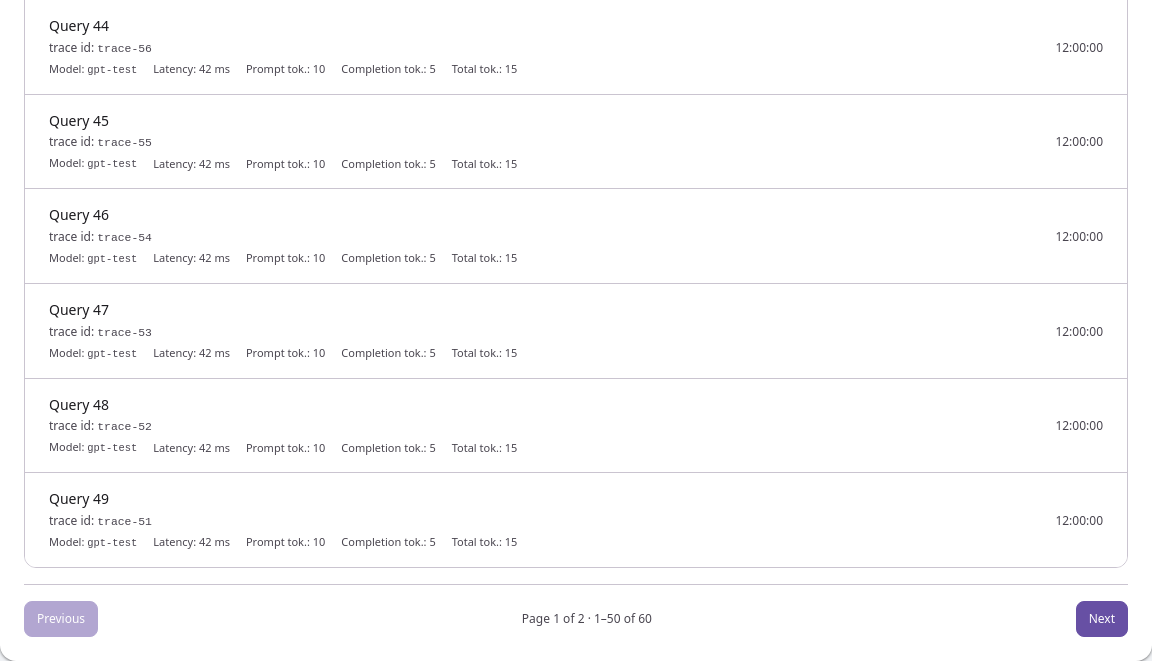
Test: ProxyJournalTab › paginates journal rows with next page fetch
(page scrolled)
Expected: the text "Page 1 of 2 · 1–50 of 60" is shown, [522,610,652,627]
Click the button "Next".
click(1102, 619)  # box [1076,601,1128,637]
(page scrolled)
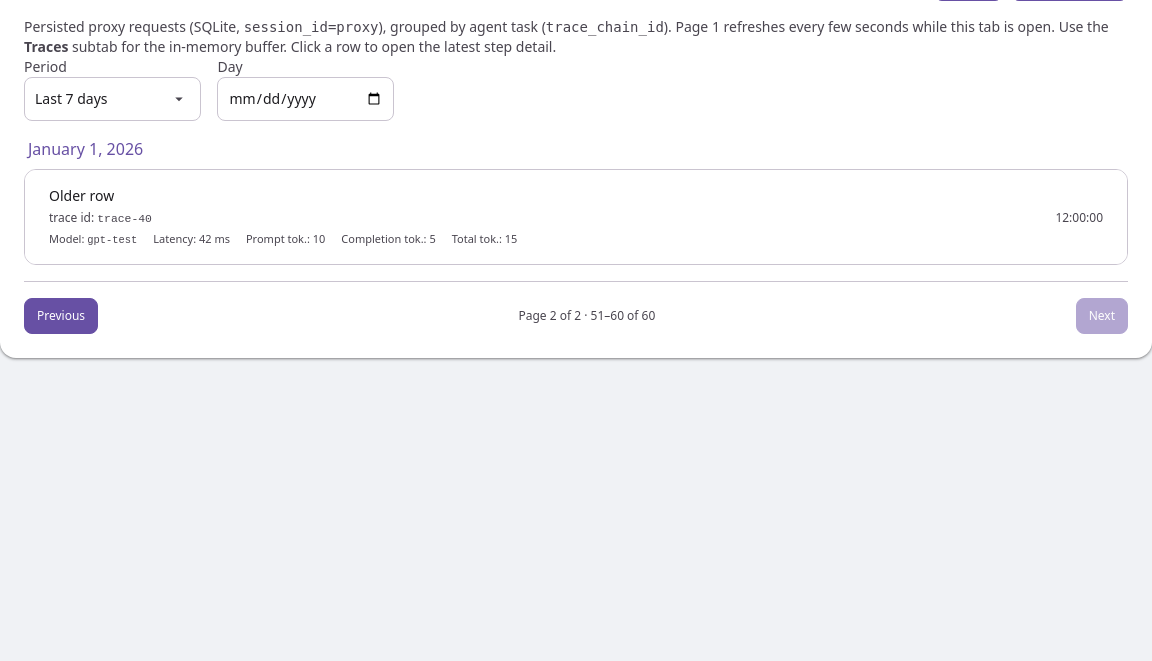
Expected: the text "Older row" is shown, [49,186,114,205]
Expected: the text "Page 2 of 2 · 51–60 of 60" is shown, [518,307,655,324]
